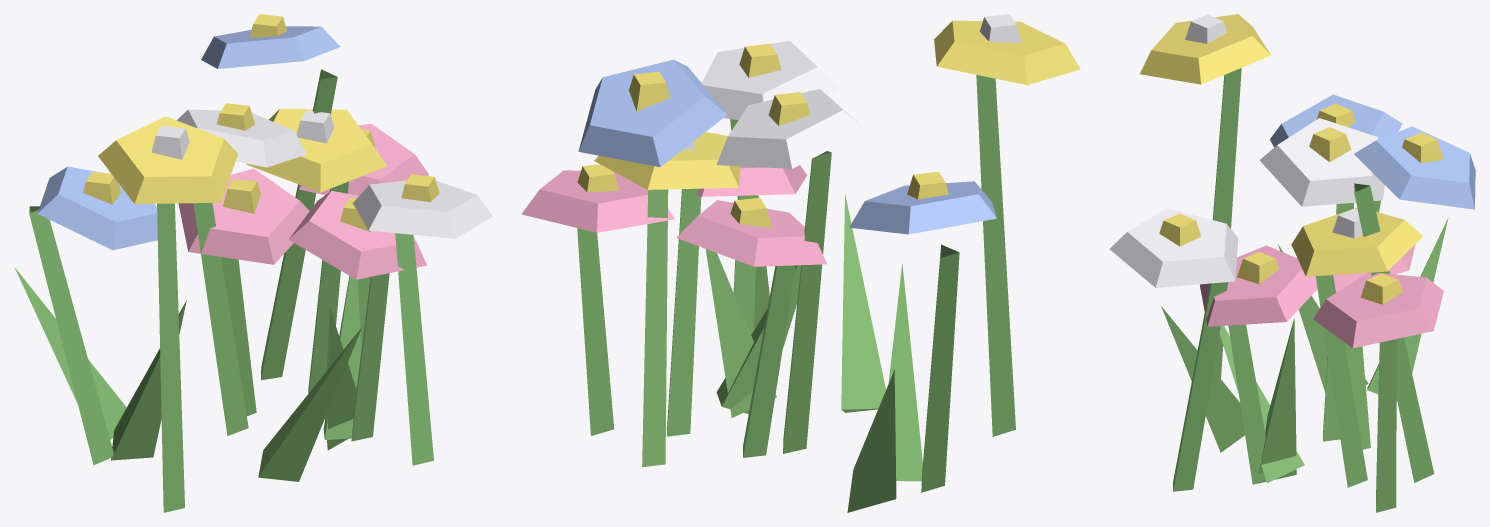
The model's file is wildflowers.glb.
The picture shows the model from 3 angles, left to right: view 1: azimuth 30°, elevation 25°; view 2: azimuth 150°, elevation 25°; view 3: azimuth 270°, elevation 25°; orthographic projection. The views are drawn at different scales.
Parts seen in each view (by area): view 1: wildflowers; view 2: wildflowers; view 3: wildflowers.
Part boxes in pixels (<box>): wildflowers: <box>14,14,492,512</box>; wildflowers: <box>521,14,1080,512</box>; wildflowers: <box>1110,14,1475,512</box>.
Bounding box in the file's own units: 0.8065 × 0.7474 × 0.6729.
